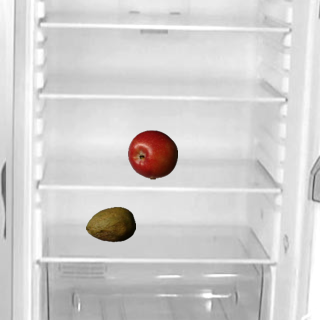Apple Braeburn: (127, 129, 177, 179)
Papaya: (85, 199, 135, 249)
